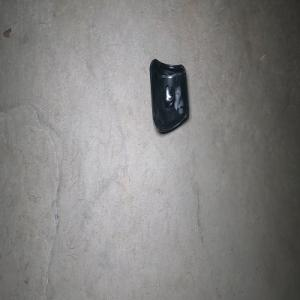LuggagePart: (148, 57, 189, 134)
